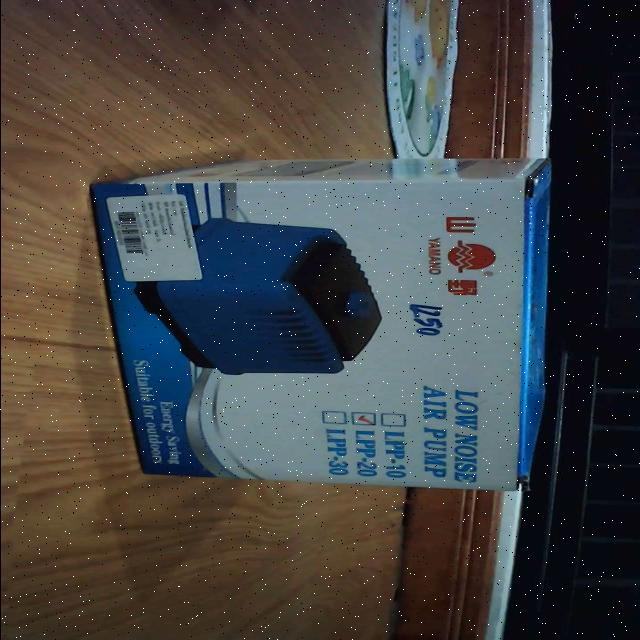YAMANO_LPP_20: (76, 148, 578, 488)
